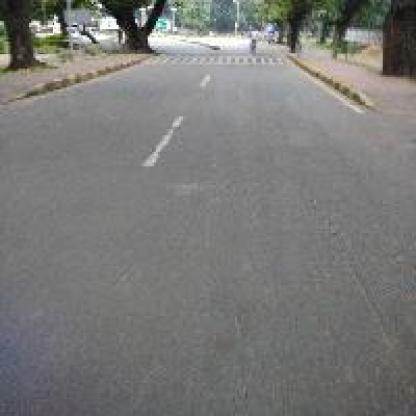Speed Bump: (141, 52, 292, 67)
